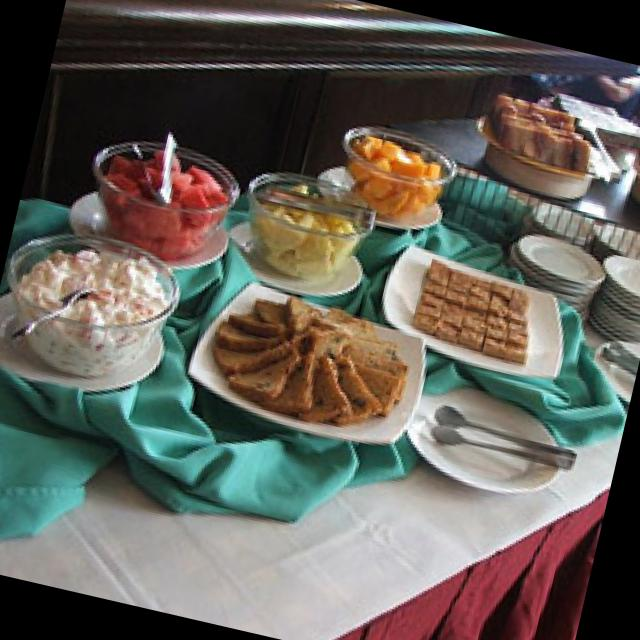basket crop: (476, 110, 592, 199)
bowl -X: (6, 228, 178, 371), (92, 137, 234, 255), (244, 168, 369, 277), (341, 122, 451, 219)
bread box: (485, 89, 587, 165)
dish -X: (185, 278, 425, 442), (379, 240, 559, 377), (402, 376, 557, 490)
dish rack: (0, 289, 159, 384), (68, 188, 226, 266), (229, 208, 354, 290), (313, 163, 434, 222)
dishes: (505, 229, 599, 323)
dishes occluded: (583, 250, 640, 342)
food procesor: (211, 292, 402, 422), (412, 255, 527, 359), (20, 246, 154, 316), (107, 148, 218, 206), (350, 131, 440, 173)
spoon occluded: (9, 284, 94, 335)
table -X: (0, 94, 640, 640)
tongs occluded: (261, 183, 360, 221), (129, 128, 176, 199)
wall clock: (12, 0, 640, 244)
